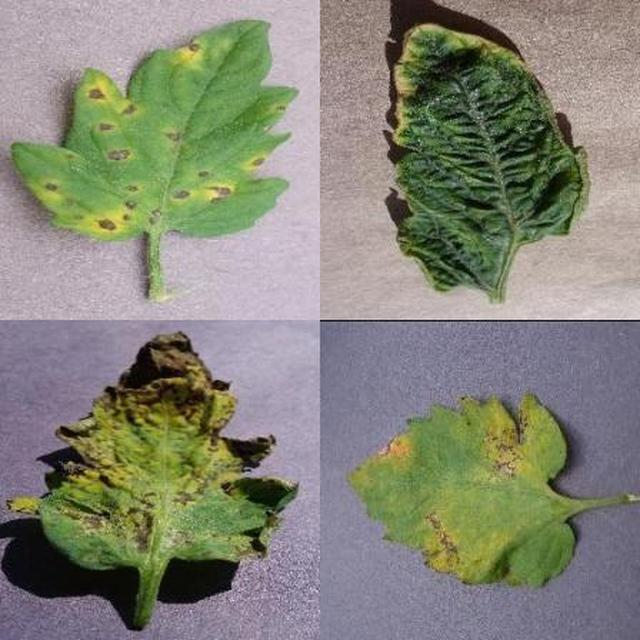Septoria Leaf: (221, 188, 640, 640)
